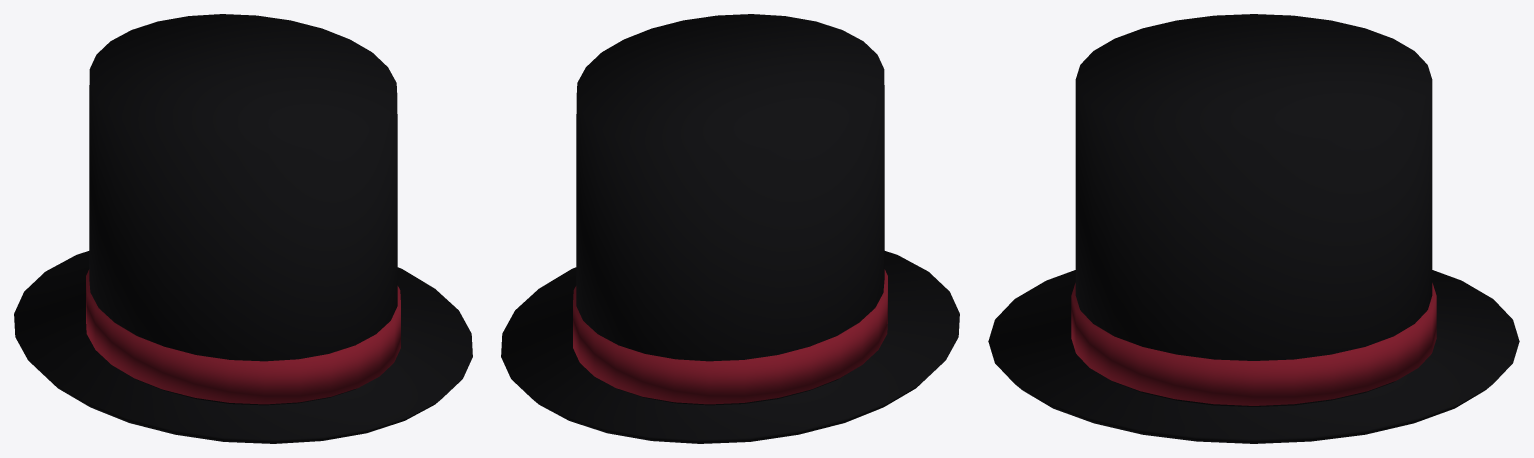
File: top_hat.glb
The picture shows the model from 3 angles, left to right: view 1: azimuth 30°, elevation 25°; view 2: azimuth 150°, elevation 25°; view 3: azimuth 270°, elevation 25°; orthographic projection. The views are drawn at different scales.
Visible parts, largest first — view 1: top_hat; view 2: top_hat; view 3: top_hat.
Boxes of the visible parts, left/top/right/bottom form: top_hat: left=14, top=14, right=472, bottom=443; top_hat: left=501, top=14, right=959, bottom=443; top_hat: left=988, top=14, right=1519, bottom=443.
Size of the model in its own units: 0.3098 by 0.2042 by 0.3564.
